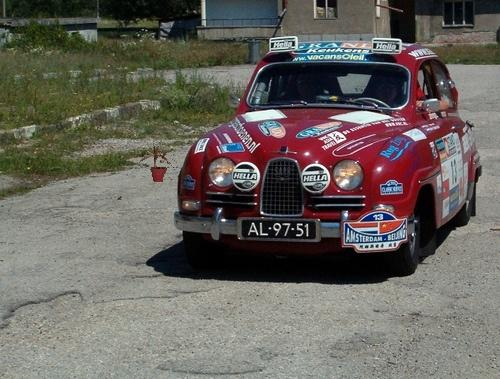tampered: (138, 139, 180, 182)
